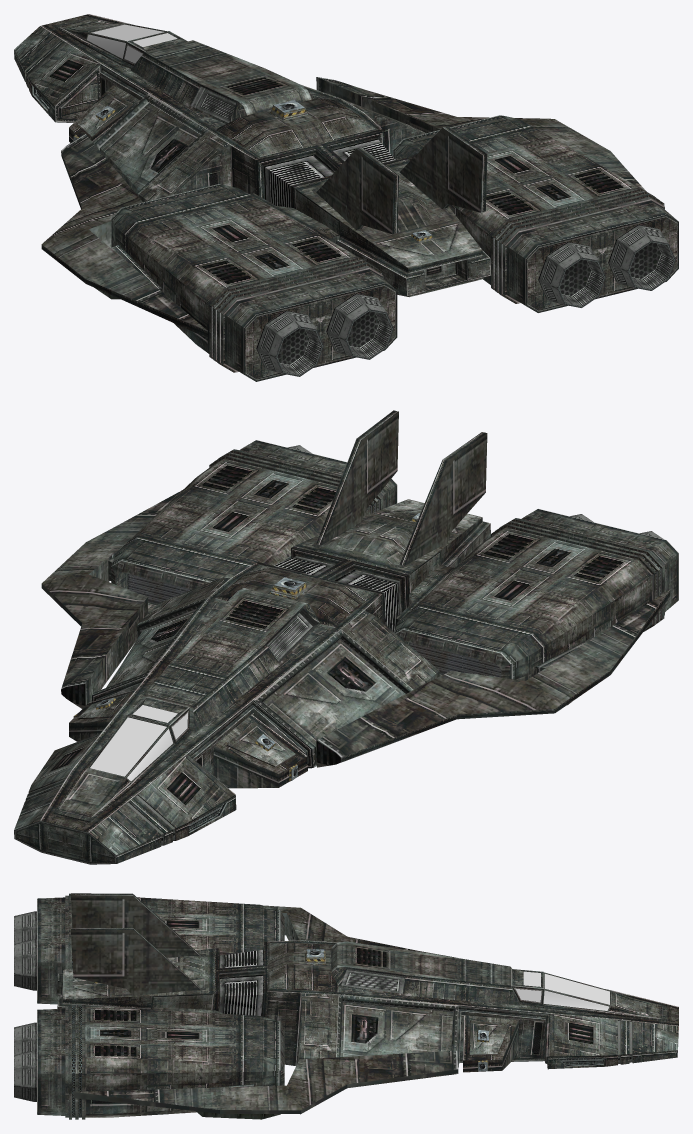
Rendered from SCF-500 Coyote II.fbx.
3 views of the same model, one above another, from view 1: azimuth 30°, elevation 25°; view 2: azimuth 150°, elevation 25°; view 3: azimuth 270°, elevation 25° (orthographic). The views are drawn at different scales.
Visible parts, largest first — view 1: Coyote2_hull, Coyote2_parts1, Coyote2_parts2, Coyote2_glass, Coyote2_weaponplate; view 2: Coyote2_hull, Coyote2_glass, Coyote2_intake, Coyote2_parts1, Coyote2_parts2, Coyote2_weaponplate; view 3: Coyote2_hull, Coyote2_parts1, Coyote2_parts2, Coyote2_glass, Coyote2_grill, Coyote2_weaponplate, Coyote2_parts3.
Part boxes in pixels (left/top/right/bottom): Coyote2_hull: left=14, top=14, right=678, bottom=381; Coyote2_parts1: left=26, top=40, right=675, bottom=376; Coyote2_parts2: left=263, top=138, right=395, bottom=207; Coyote2_glass: left=87, top=24, right=177, bottom=63; Coyote2_weaponplate: left=73, top=100, right=433, bottom=243; Coyote2_hull: left=14, top=410, right=678, bottom=864; Coyote2_glass: left=90, top=705, right=187, bottom=781; Coyote2_intake: left=128, top=574, right=501, bottom=677; Coyote2_parts1: left=27, top=445, right=663, bottom=844; Coyote2_parts2: left=274, top=556, right=401, bottom=631; Coyote2_weaponplate: left=73, top=513, right=420, bottom=781; Coyote2_hull: left=37, top=893, right=678, bottom=1119; Coyote2_parts1: left=14, top=911, right=632, bottom=1101; Coyote2_parts2: left=219, top=949, right=264, bottom=1016; Coyote2_glass: left=515, top=971, right=609, bottom=1010; Coyote2_grill: left=72, top=920, right=81, bottom=1117; Coyote2_weaponplate: left=94, top=949, right=489, bottom=1071; Coyote2_parts3: left=196, top=1111, right=280, bottom=1119.
Bounding box in the file's own units: 271 × 94.57 × 368.
9 materials, 9 textured.
